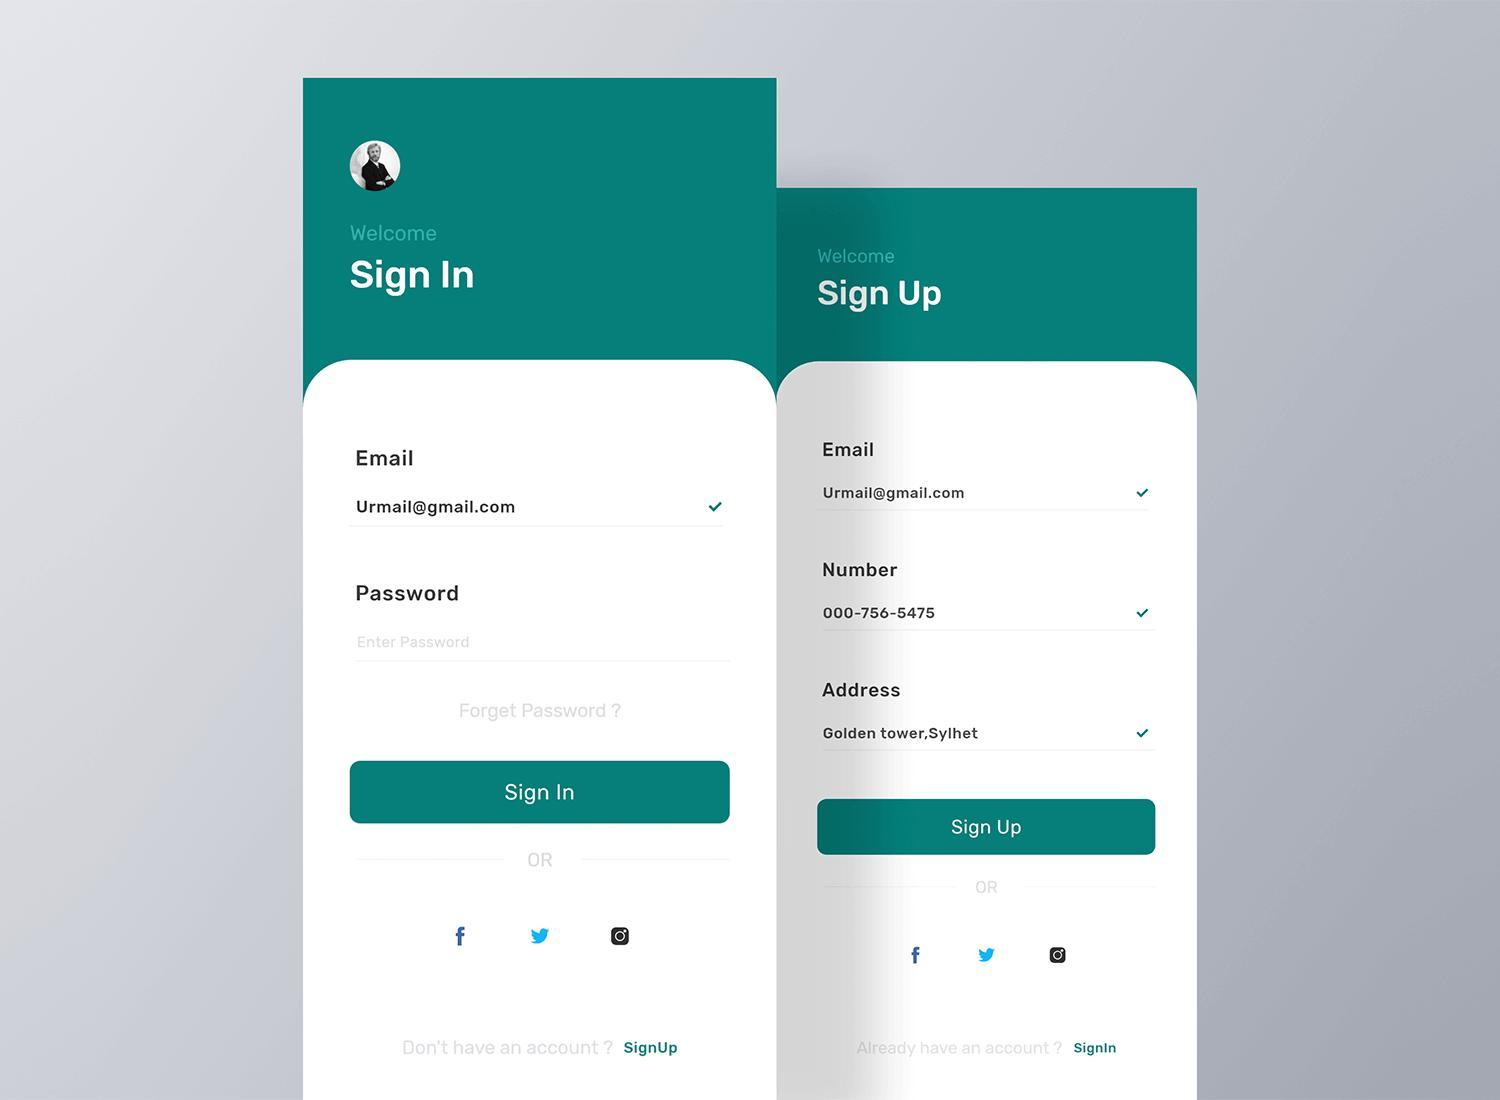button: (355, 764, 734, 824), (818, 803, 1156, 859)
icon: (441, 921, 489, 965), (603, 921, 641, 964), (963, 939, 1006, 977), (523, 920, 559, 961), (1043, 939, 1071, 978), (908, 943, 933, 975)
input: (347, 483, 741, 527), (352, 626, 734, 666), (818, 471, 1160, 511), (821, 710, 1161, 748), (819, 595, 1156, 630)
label: (344, 582, 467, 608), (811, 559, 903, 589), (822, 676, 910, 703), (355, 443, 422, 471), (818, 439, 880, 461)
